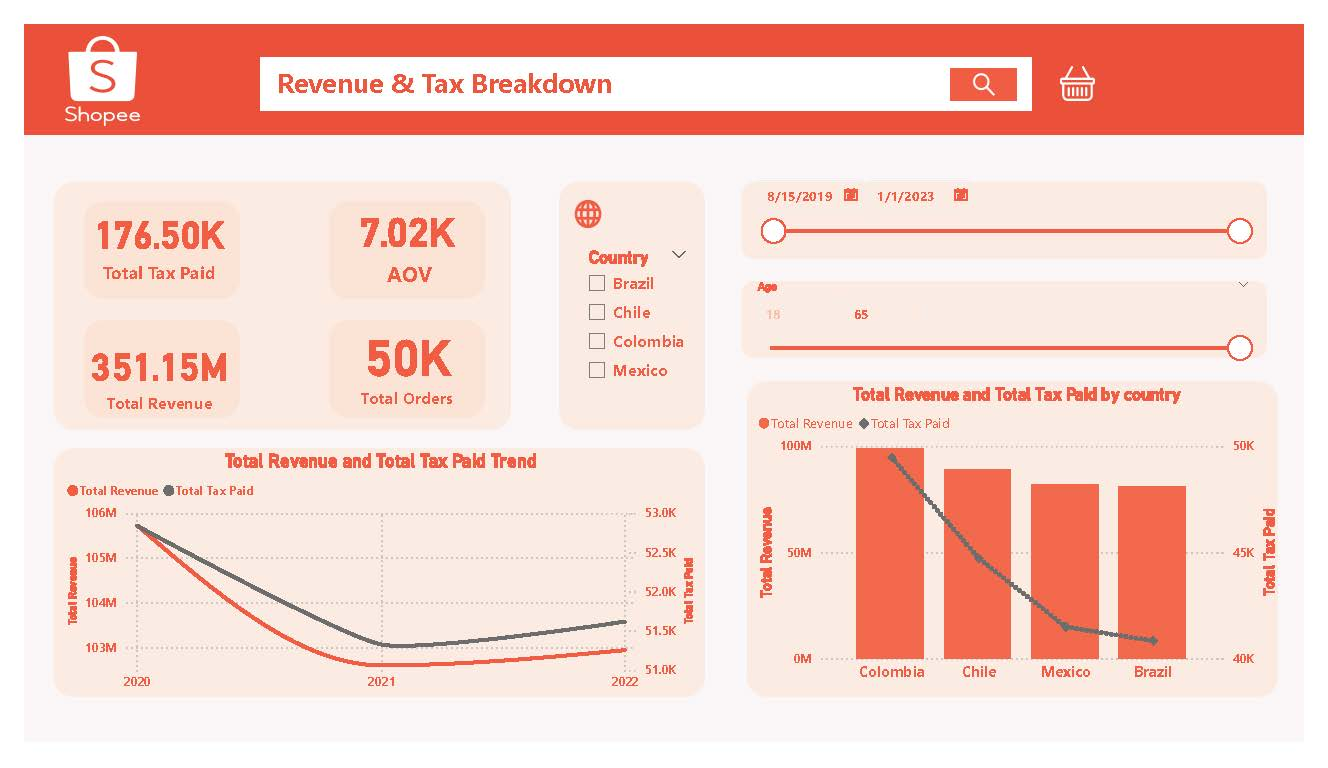

What the dashboard file says about the page in this screenshot:
{"tool":"powerbi","page":{"name":"Revenue & Tax Breakdown","canvas":[1280,720],"ordinal":2},"visuals":[{"type":"card","fields":{"Values":["purchase.Total Revenue"]},"box":[22.7,290,225.5,120.9],"z":0},{"type":"card","fields":{"Values":["purchase.Total Tax Paid"]},"box":[47.3,126.4,175.5,185.5],"z":1000},{"type":"card","fields":{"Values":["purchase.Total Orders"]},"box":[272.7,282.7,220.9,111.8],"z":2000},{"type":"card","fields":{"Values":["purchase.Average Order Value (AOV)"]},"box":[306.8,154.3,151.6,128.6],"z":3000},{"type":"lineChart","title":"Total Revenue and Total Tax Paid Trend","fields":{"Category":["purchase.order_date.Variation.Date Hierarchy.Year","purchase.order_date.Variation.Date Hierarchy.Quarter","purchase.order_date.Variation.Date Hierarchy.Month"],"Y":["purchase.Total Revenue"],"Y2":["purchase.Total Tax Paid"]},"box":[38.1,425.6,636.7,250],"z":4000},{"type":"lineClusteredColumnComboChart","fields":{"Category":["customer.country"],"Y":["purchase.Total Revenue"],"Y2":["purchase.Total Tax Paid"]},"box":[728.9,360,528.5,308.6],"z":5000},{"type":"slicer","fields":{"Values":["purchase.order_date"]},"box":[720.9,146.3,516.1,86],"z":6000},{"type":"slicer","fields":{"Values":["customer.country"]},"box":[551.5,218.1,123.3,176.5],"z":7000},{"type":"slicer","fields":{"Values":["customer.age"]},"box":[720.9,250.9,516.1,99.3],"z":8000},{"type":"textbox","box":[248.3,34.6,403.4,49.7],"z":9000}]}

Visuals, with their boxes in screenshot pixels (x1, y1, x2, y2), scaled from the page's 1280x720 canvas onto the 1328x768 screenshot:
card - purchase.Total Revenue: (x1=24, y1=309, x2=258, y2=438)
card - purchase.Total Tax Paid: (x1=49, y1=135, x2=231, y2=333)
card - purchase.Total Orders: (x1=283, y1=302, x2=512, y2=421)
card - purchase.Average Order Value (AOV): (x1=318, y1=165, x2=476, y2=302)
"Total Revenue and Total Tax Paid Trend" lineChart: (x1=40, y1=454, x2=700, y2=721)
lineClusteredColumnComboChart - customer.country x purchase.Total Revenue: (x1=756, y1=384, x2=1305, y2=713)
slicer - purchase.order_date: (x1=748, y1=156, x2=1283, y2=248)
slicer - customer.country: (x1=572, y1=233, x2=700, y2=421)
slicer - customer.age: (x1=748, y1=268, x2=1283, y2=374)
textbox: (x1=258, y1=37, x2=676, y2=90)
